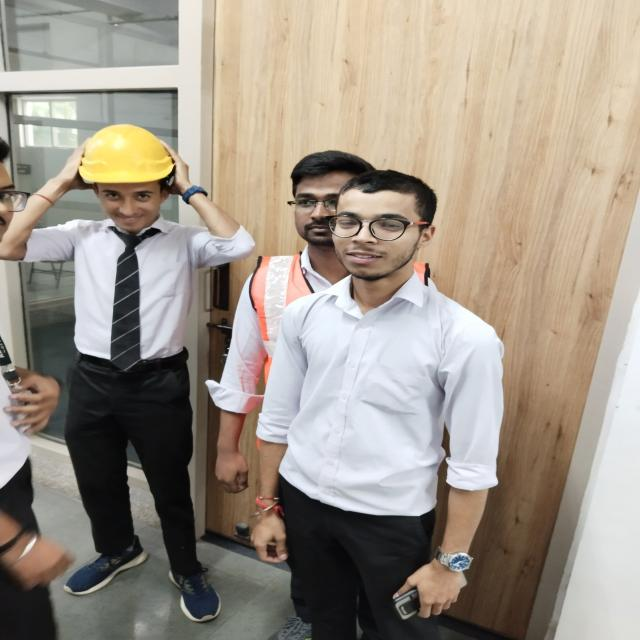no jacket: (22, 126, 209, 606)
unsafe: (249, 169, 515, 640)
